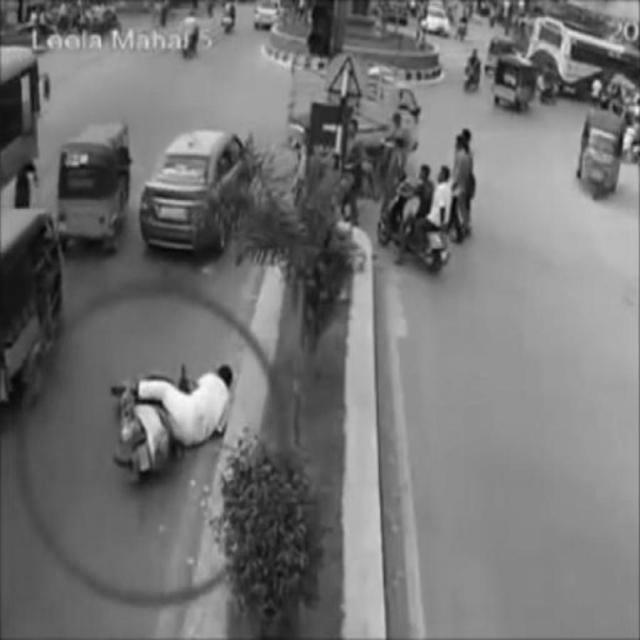accident: (108, 357, 230, 485)
vehicle: (139, 127, 249, 255), (55, 135, 131, 259), (384, 164, 455, 274), (579, 110, 621, 198)
